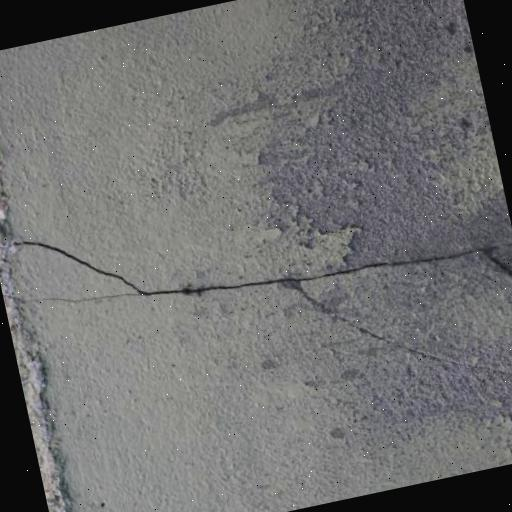spalling: (17, 231, 512, 305)
